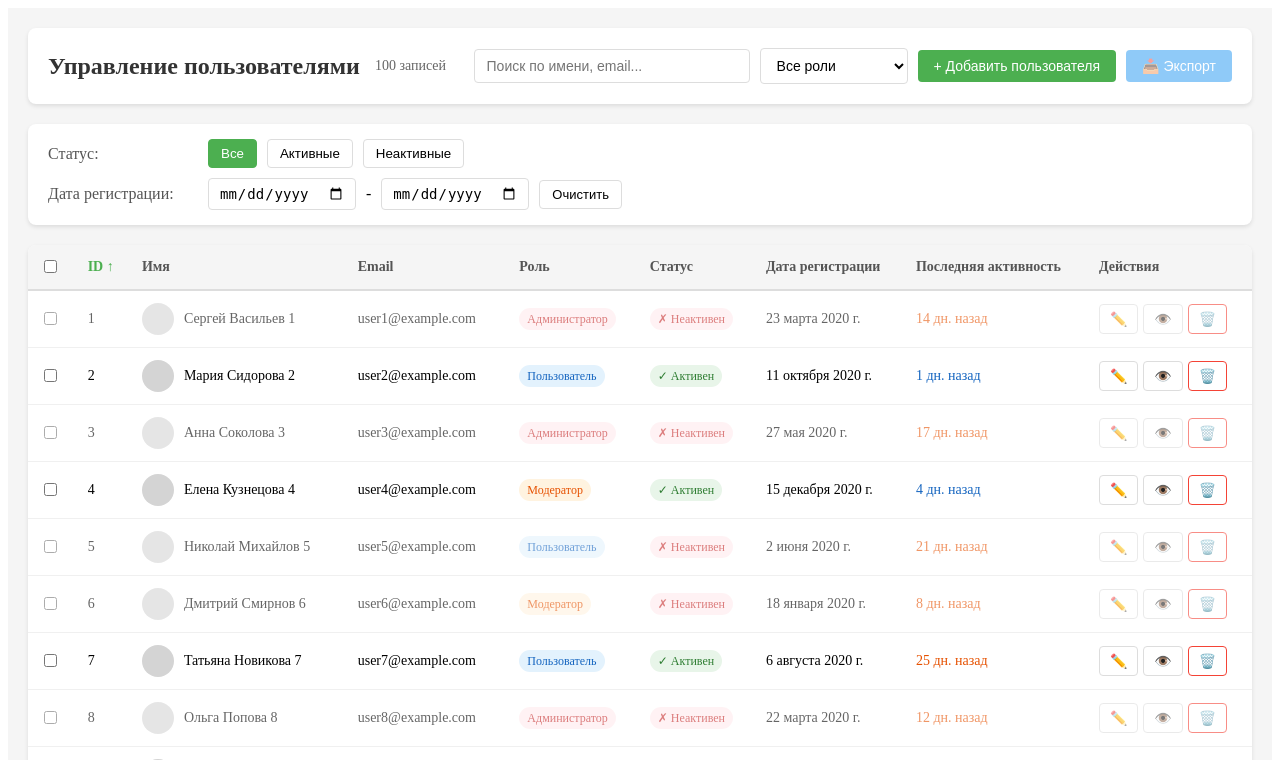
UserTable › Редактирование пользователя › должен войти в режим редактирования при клике на кнопку "Изменить"
Step 1. Click the button with class "btn-icon" in the row of "user1@example.com" → (1119, 319), box [1099,304,1138,334]
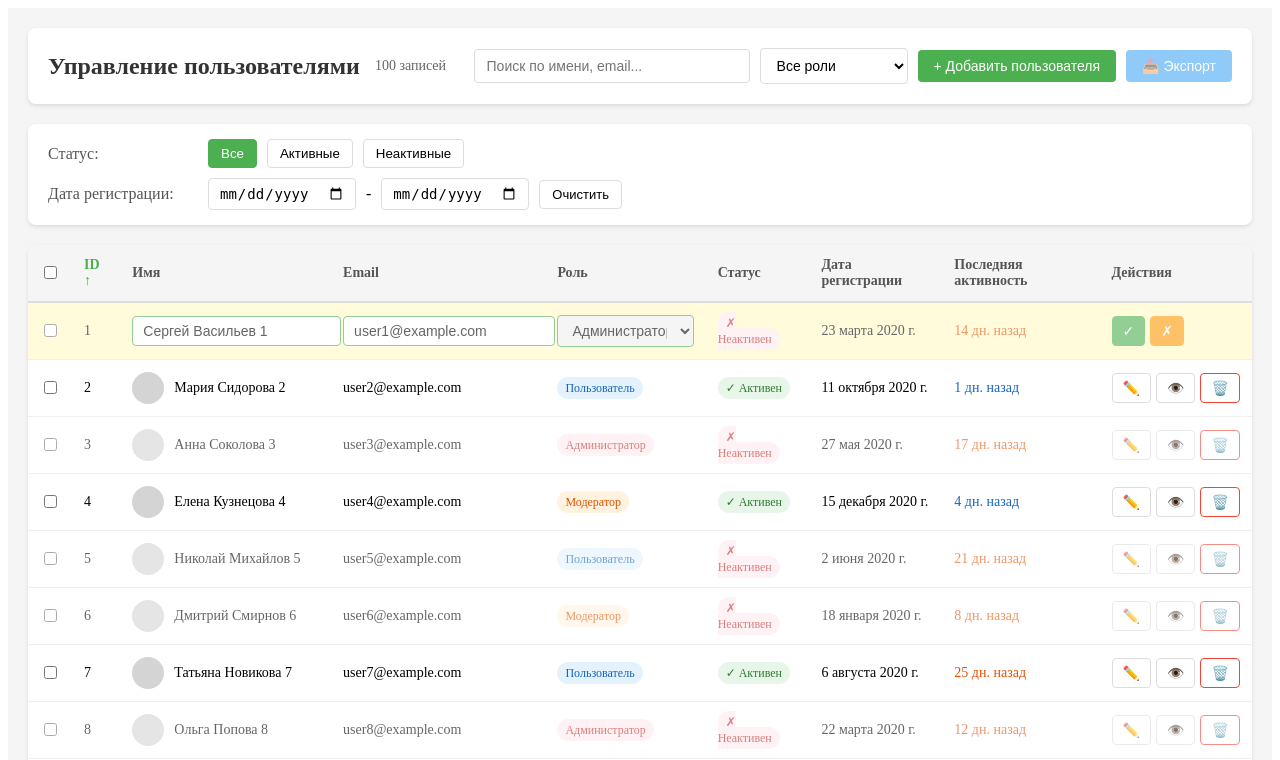
Expected: the 1st field with class "edit-input" is shown, [132,316,341,346]
